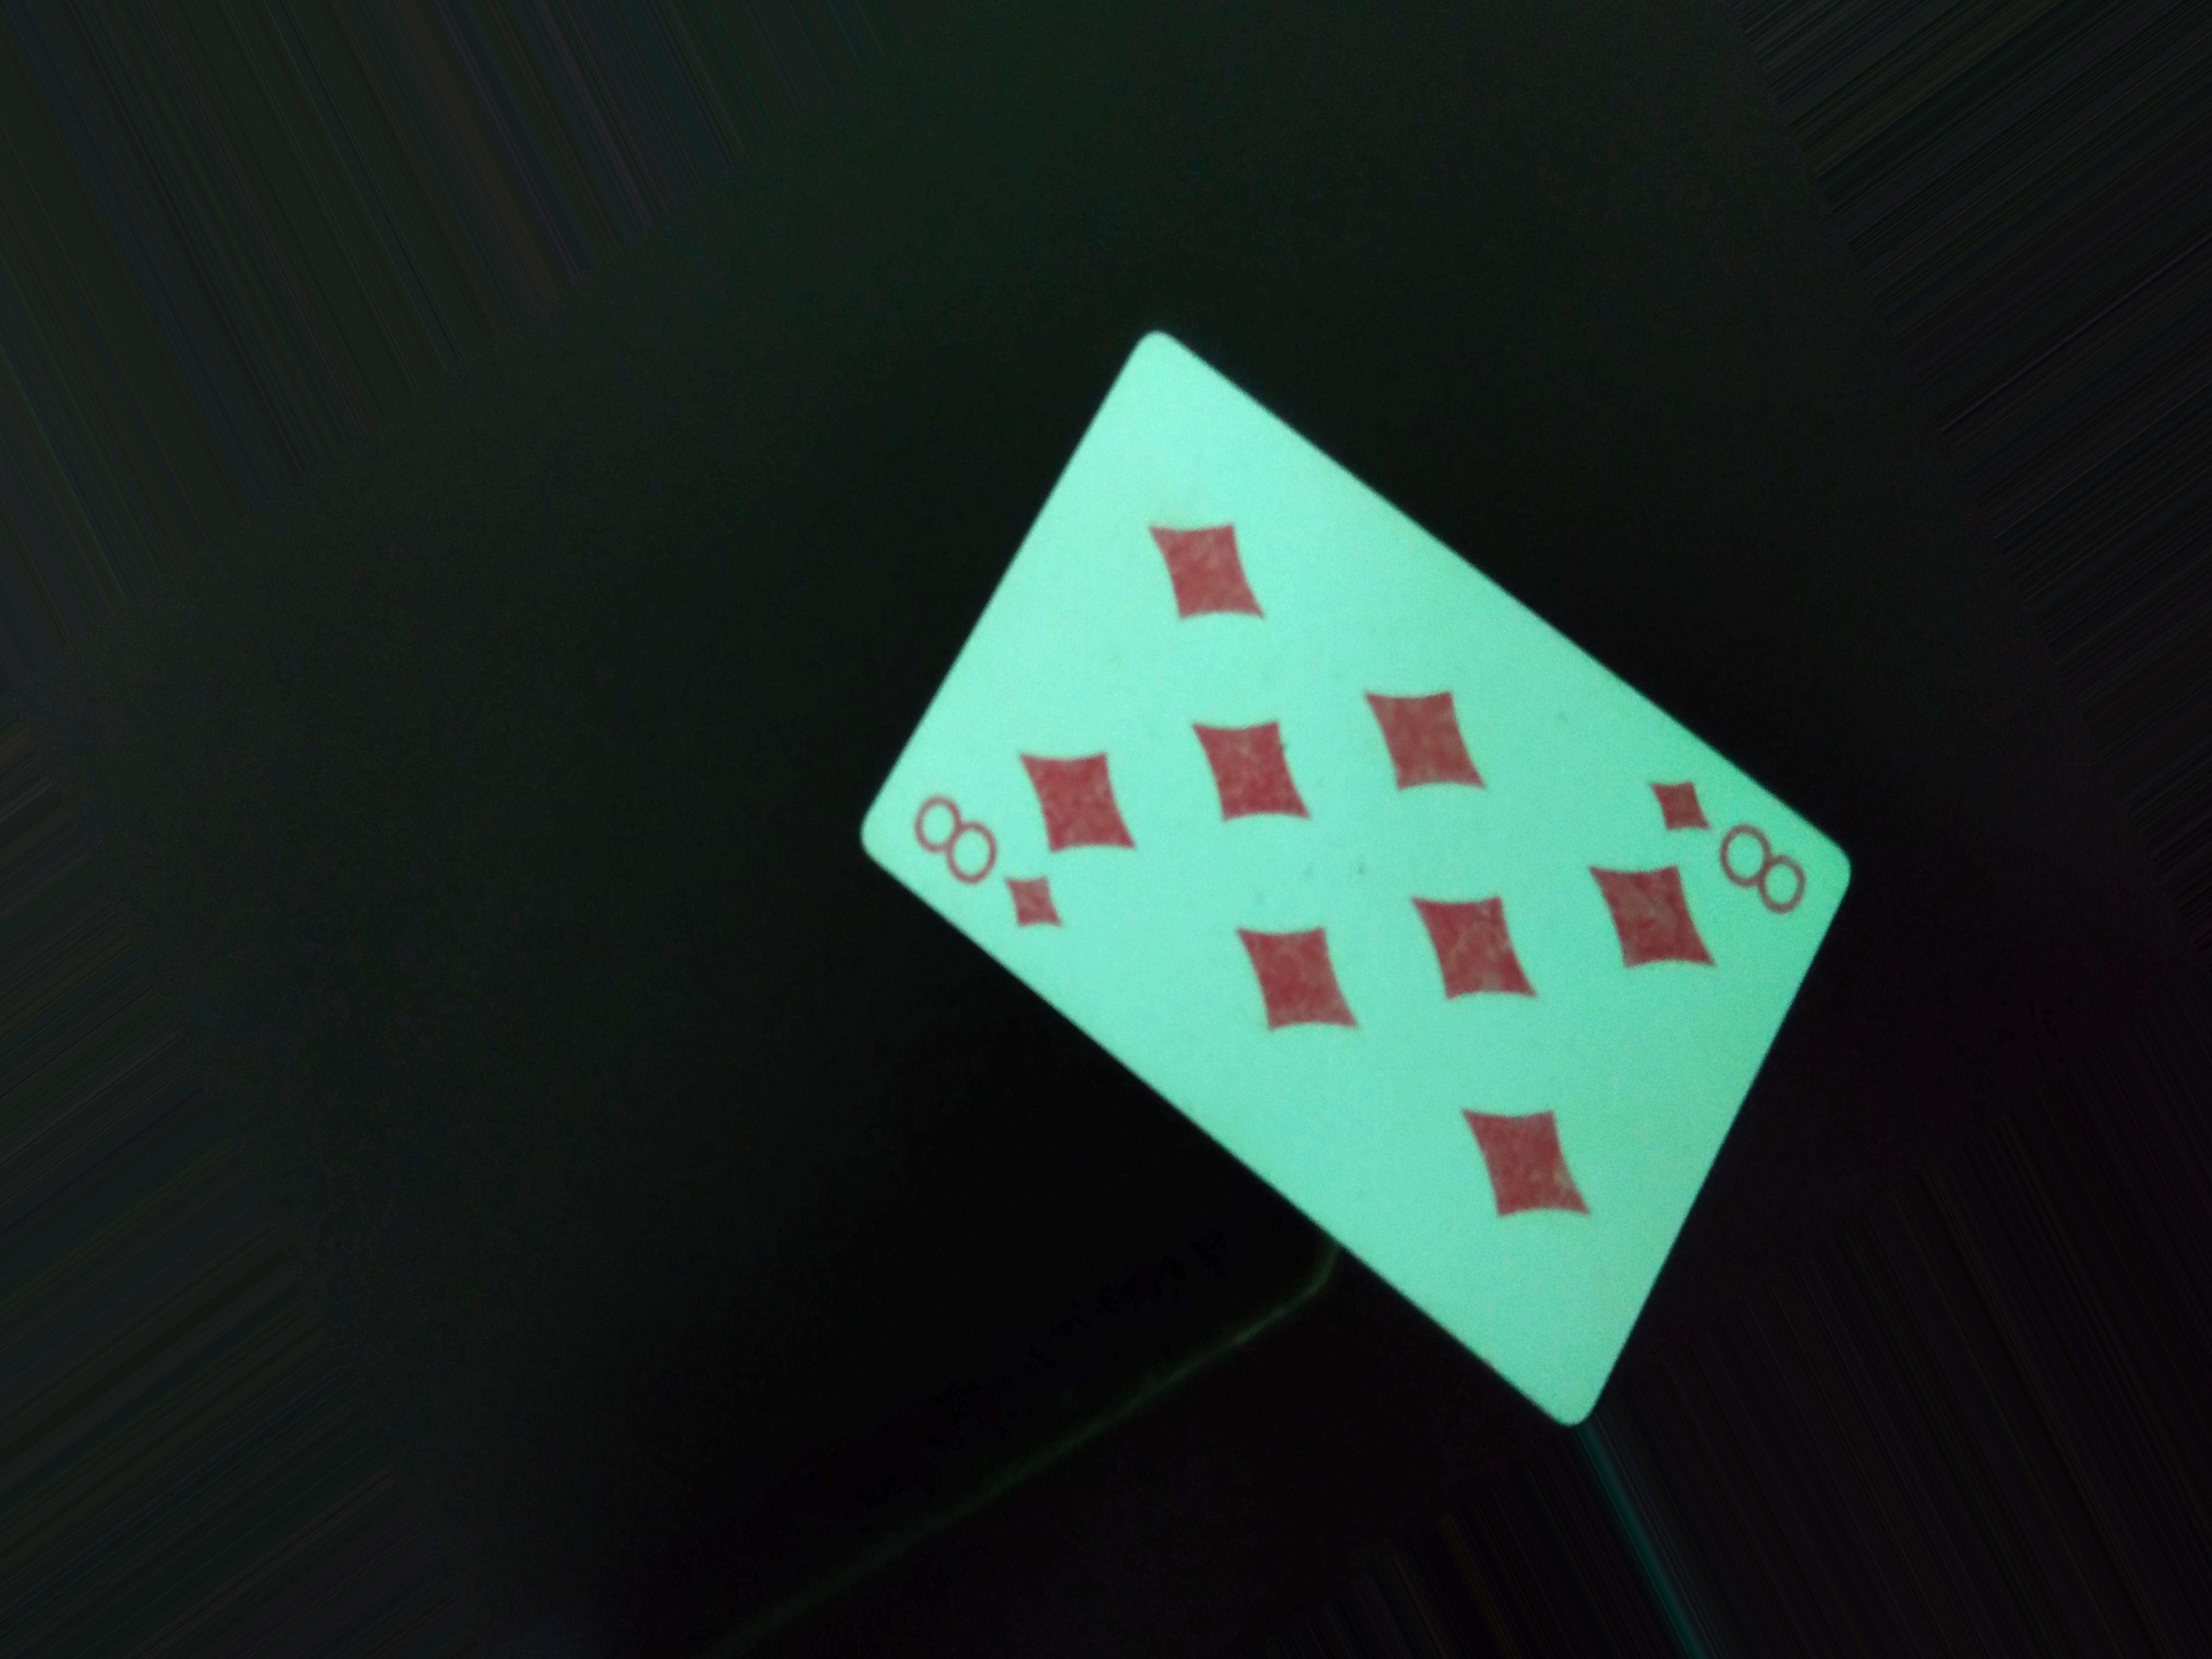8D: (1632, 767, 1855, 958)
